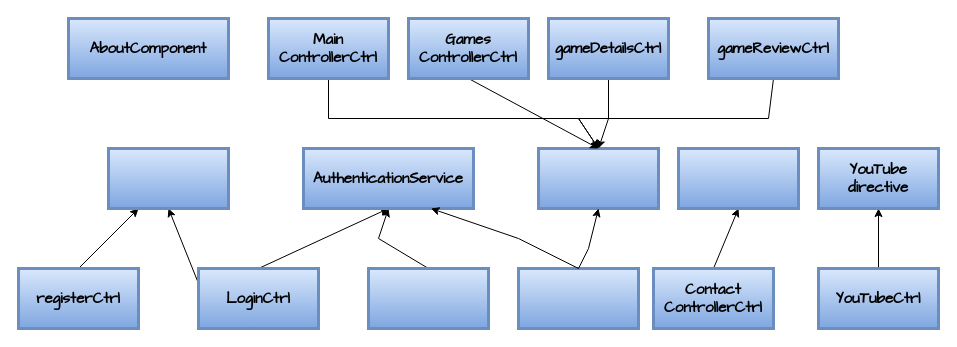
Some shapes in this 957 by 347 pixel diagram are drawn without their labels. The box of each missing label's shape, as (x1, y1, x2, y2) in pixels:
AddGame ControllerCtrl: (516, 266, 640, 330)
GameService: (536, 146, 660, 210)
myAcountCtrl: (366, 266, 490, 330)
promise tracker: (676, 146, 800, 210)
UserService: (106, 146, 230, 210)
